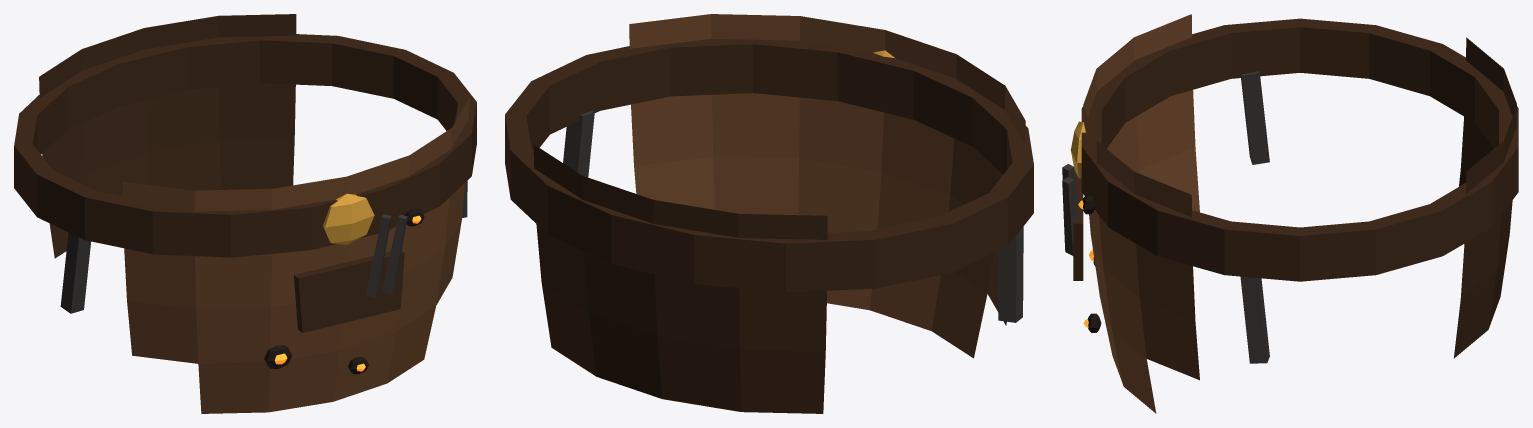
Rendered from ember_thane_apron.glb.
3 renders of one model, left to right at view 1: azimuth 30°, elevation 25°; view 2: azimuth 150°, elevation 25°; view 3: azimuth 270°, elevation 25°, orthographic. The views are drawn at different scales.
Parts seen in each view (by area): view 1: ember_thane_apron; view 2: ember_thane_apron; view 3: ember_thane_apron.
Boxes of the visible parts, x1=… form: ember_thane_apron: x1=14, y1=14, x2=476, y2=413; ember_thane_apron: x1=505, y1=14, x2=1033, y2=413; ember_thane_apron: x1=1062, y1=14, x2=1518, y2=413.
Bounding box in the file's own units: 1.02 × 0.55 × 0.9053.
